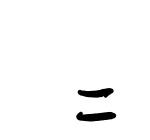eqv: (71, 83, 121, 124)
